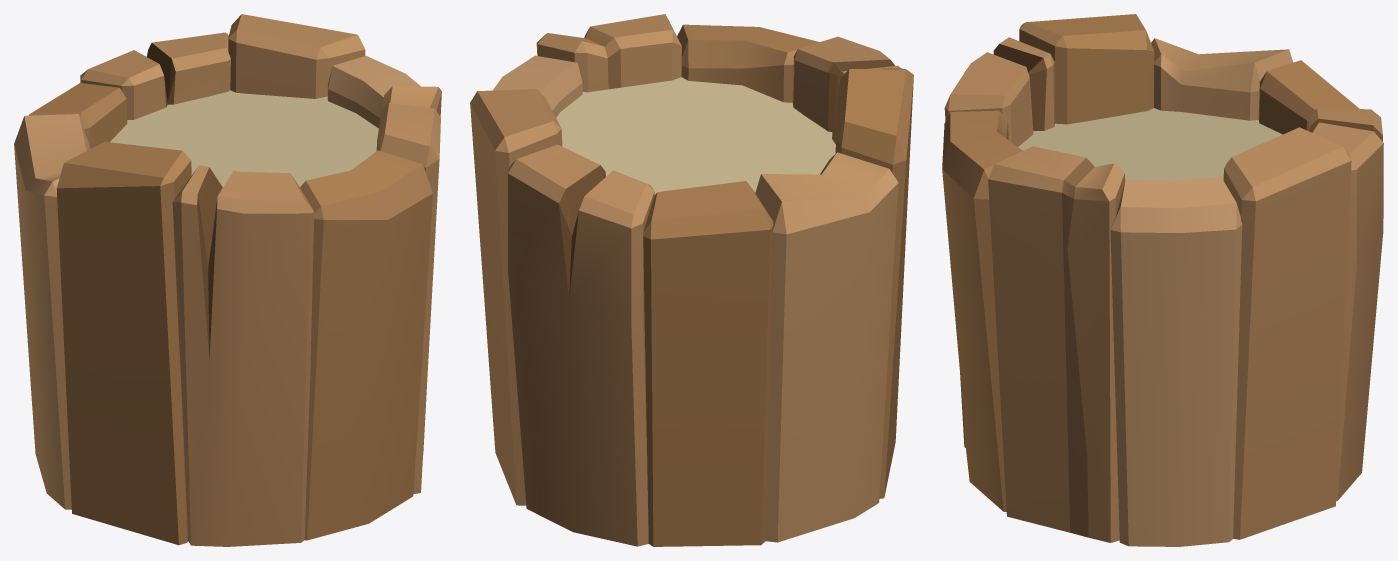
File: Signpost_B.fbx
3 renders of one model, left to right at view 1: azimuth 30°, elevation 25°; view 2: azimuth 150°, elevation 25°; view 3: azimuth 270°, elevation 25°, orthographic. The views are drawn at different scales.
Parts seen in each view (by area): view 1: Signpost_B; view 2: Signpost_B; view 3: Signpost_B.
Part boxes in pixels (box(x1,y1,x2,y2)): Signpost_B: box(14, 14, 441, 546); Signpost_B: box(470, 14, 913, 546); Signpost_B: box(942, 14, 1383, 546).
Bounding box in the file's own units: 37.45 × 34.93 × 37.09.
